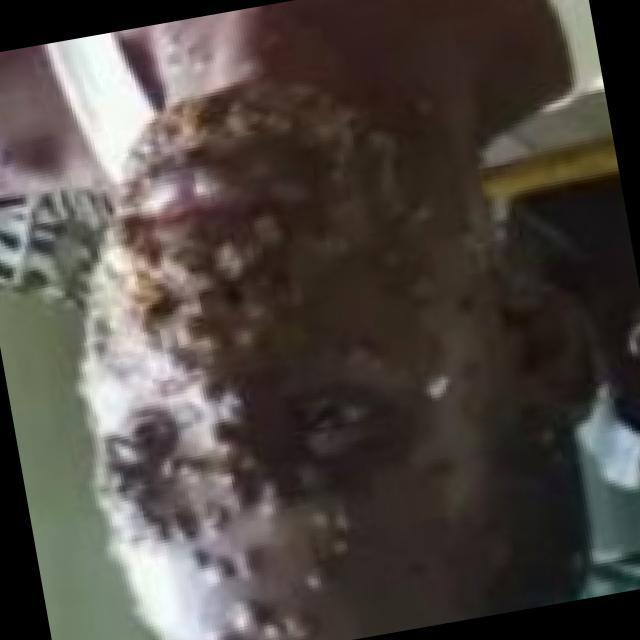Eczema: (109, 89, 579, 640)
